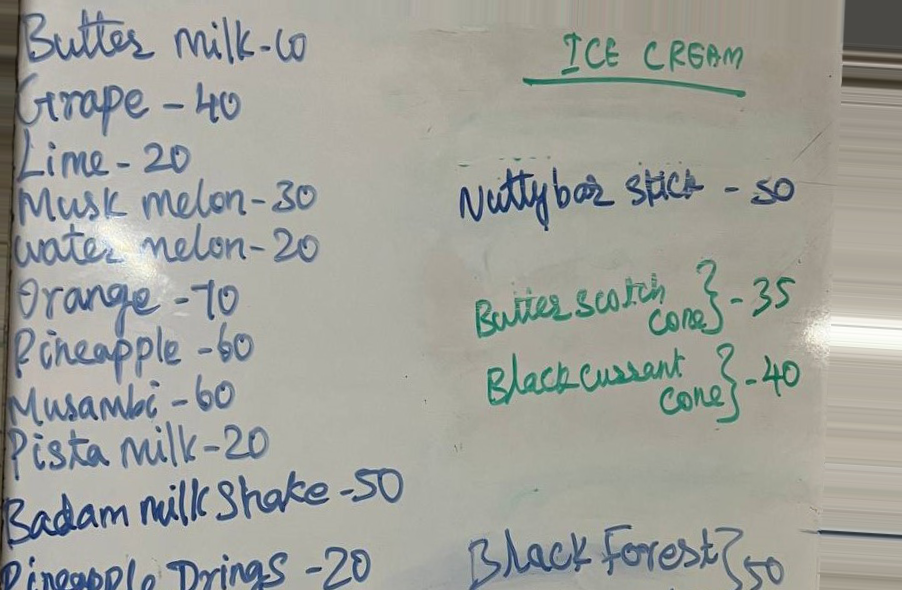badam milkshake - 50: (5, 473, 408, 546)
black current cone - 40: (477, 345, 807, 428)
black forest cake - 50: (462, 515, 796, 589)
butter milk - 10: (19, 8, 314, 70)
butterscotch cone - 35: (472, 257, 804, 341)
grape - 40: (14, 71, 247, 139)
lime - 20: (14, 127, 197, 182)
musambi - 60: (5, 380, 238, 423)
musk melon - 30: (7, 180, 329, 228)
nutty bar - 30: (455, 156, 801, 233)
orange - 70: (2, 275, 250, 323)
pineapple - 60: (10, 326, 269, 380)
pista milk - 20: (2, 421, 276, 471)
water melon - 20: (10, 224, 324, 271)
